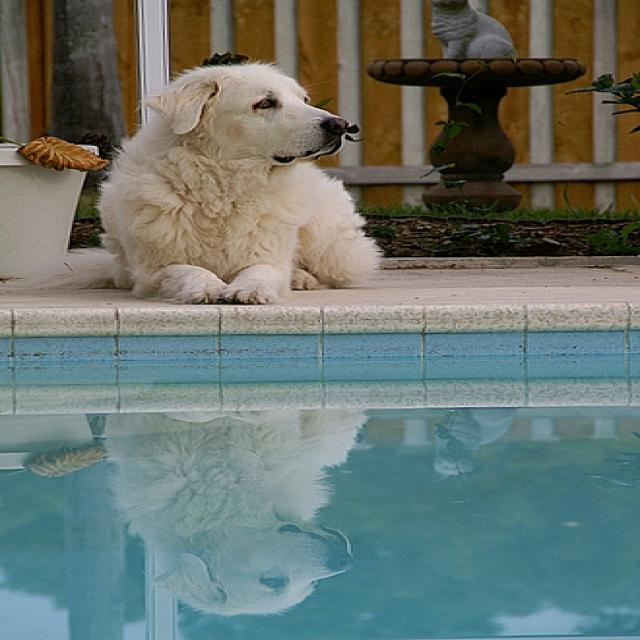dog: (171, 61, 343, 162)
